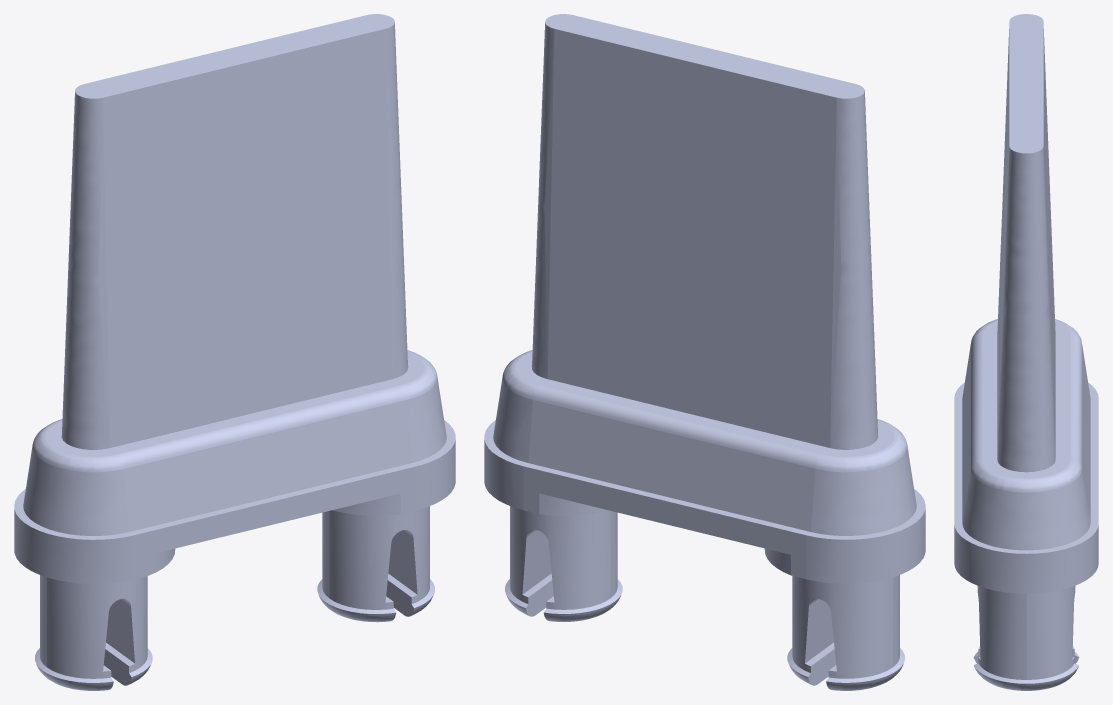
Rendered from Medium Intake Flap (228-2500-241).glb.
3 renders of one model, left to right at view 1: azimuth 30°, elevation 25°; view 2: azimuth 150°, elevation 25°; view 3: azimuth 270°, elevation 25°, orthographic. The views are drawn at different scales.
Visible parts, largest first — view 1: Medium Intake Flap (228-2500-241); view 2: Medium Intake Flap (228-2500-241); view 3: Medium Intake Flap (228-2500-241).
Boxes of the visible parts, <box> form: Medium Intake Flap (228-2500-241): <box>14,14,455,690</box>; Medium Intake Flap (228-2500-241): <box>484,14,925,690</box>; Medium Intake Flap (228-2500-241): <box>954,14,1098,690</box>.
Bounding box in the file's own units: 0.7441 × 0.9838 × 0.2441.
